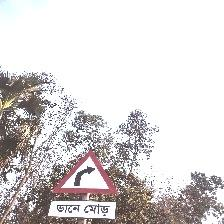Right-turn: (48, 150, 118, 221)
